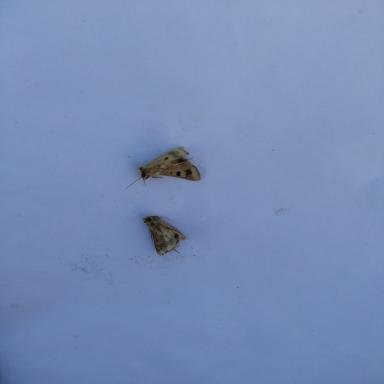abw: (122, 144, 202, 192), (140, 213, 188, 257)
